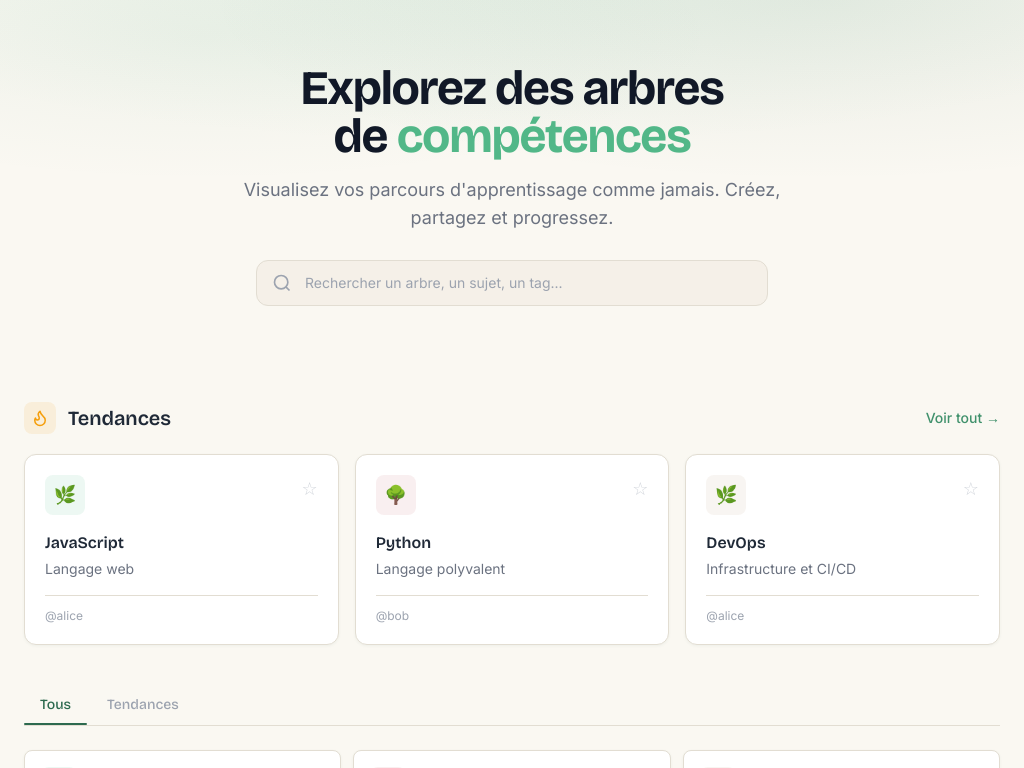
Test: SkillTreeListPage - Recherche › filtre par nom
Type "python" into the field with placeholder "Rechercher un arbre, un sujet, un tag...".
click(512, 283); type("python")  # box [256,260,768,306]
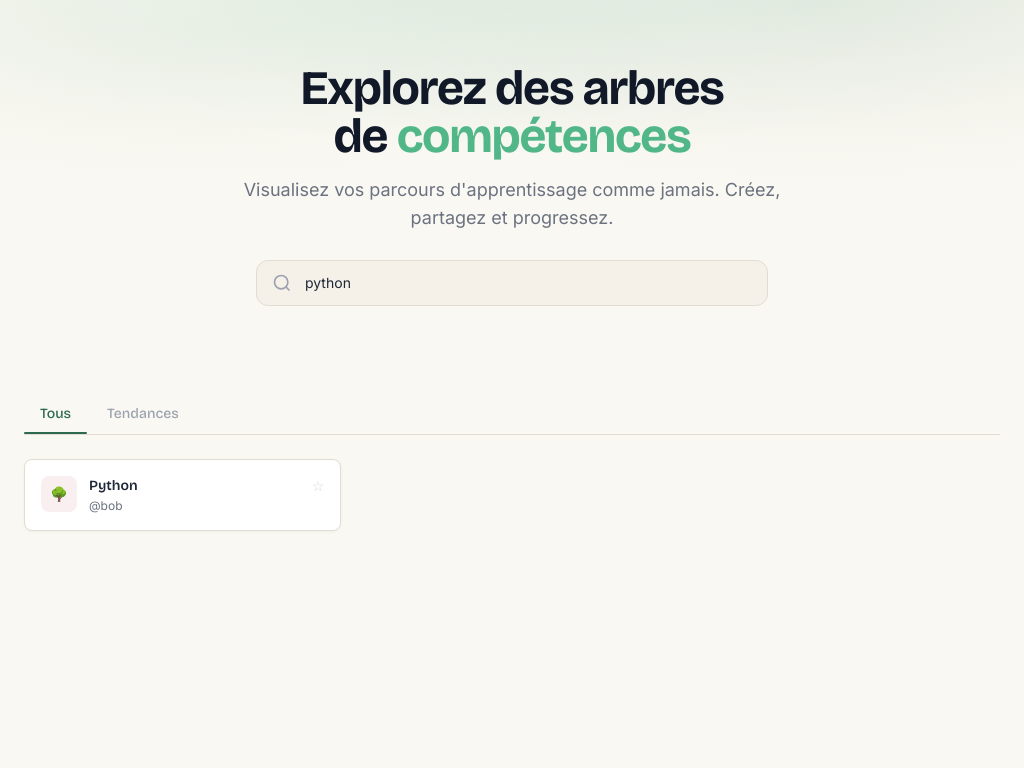
Expected: the heading "Python" is shown, [89,476,138,496]
Result: the link "JavaScript" is gone
Result: the link "DevOps" is gone
